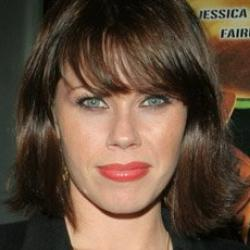face: (7, 1, 242, 241)
